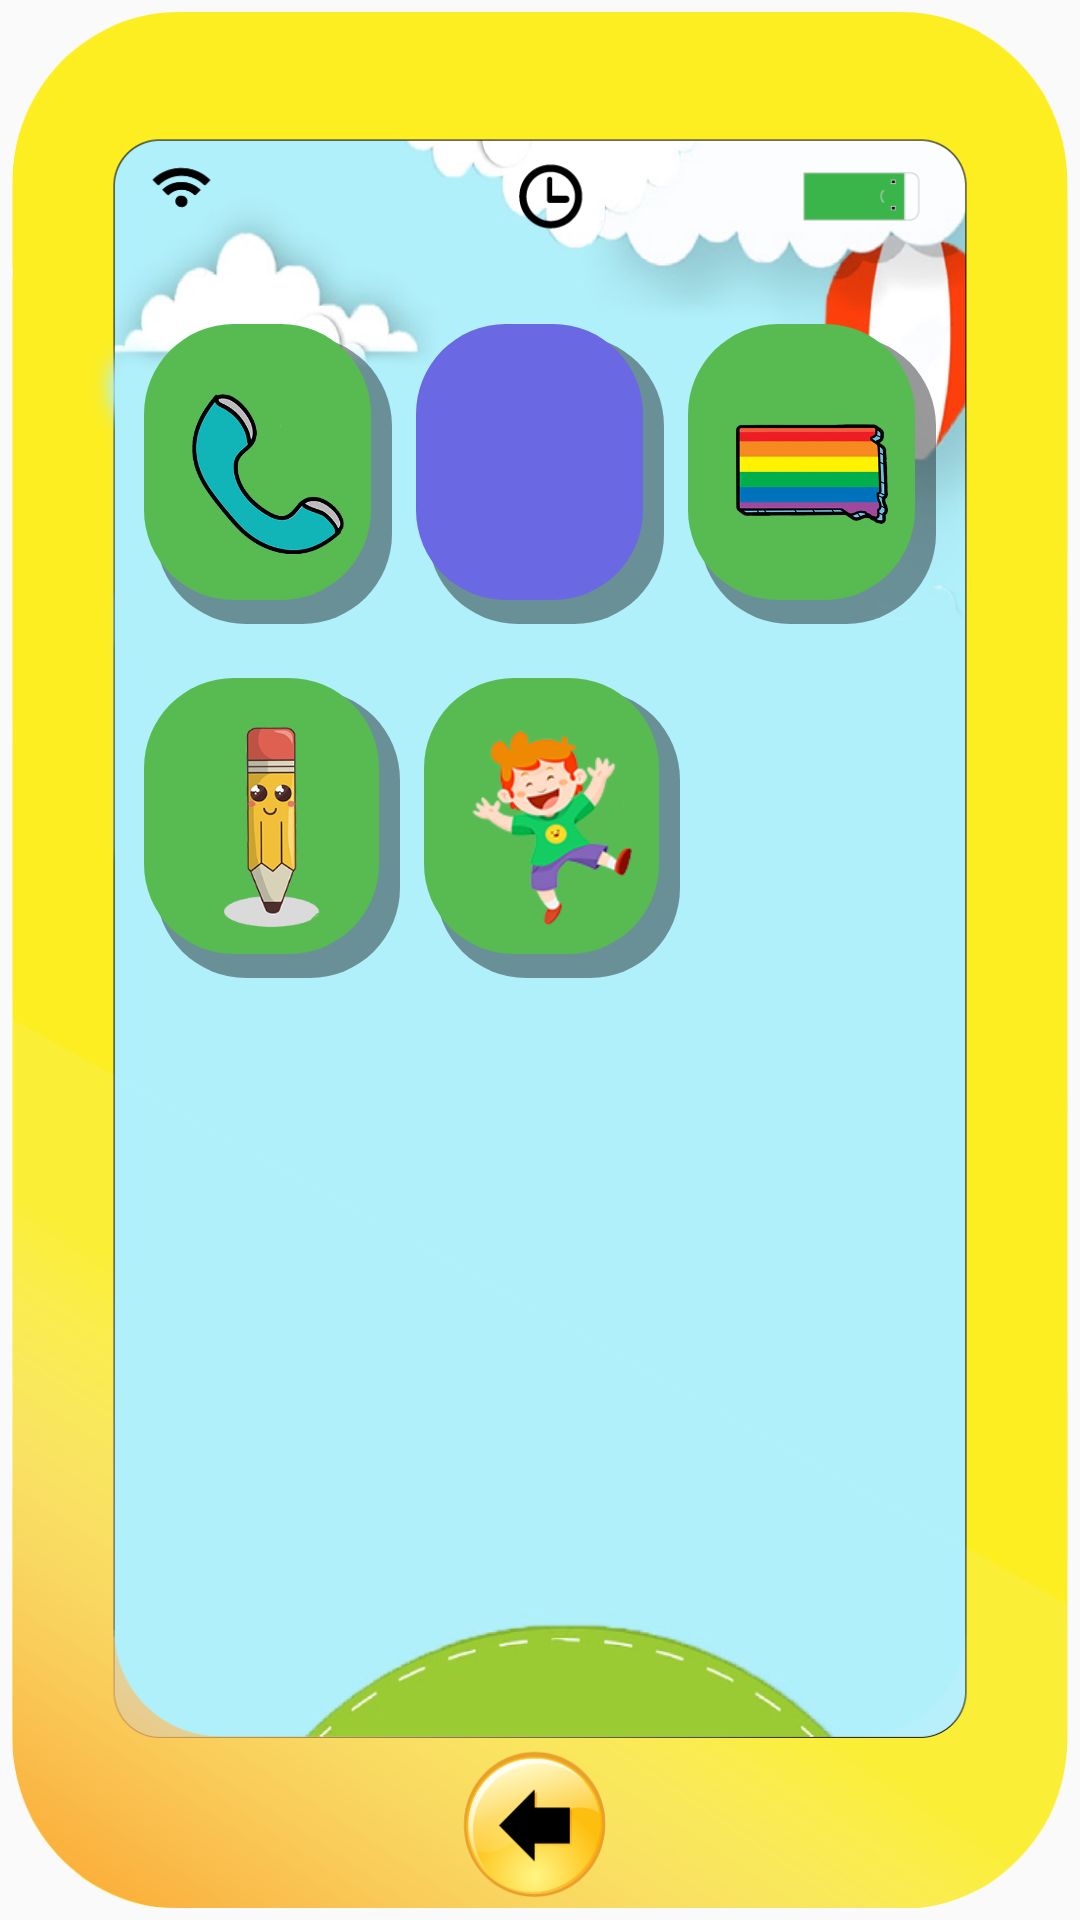

Where icons sit on this 1080*1920 app screen, as (x1, y1, x2, y2):
phone call: (144, 324, 392, 624)
play: (424, 678, 680, 978)
write gupi phone: (144, 678, 400, 978)
